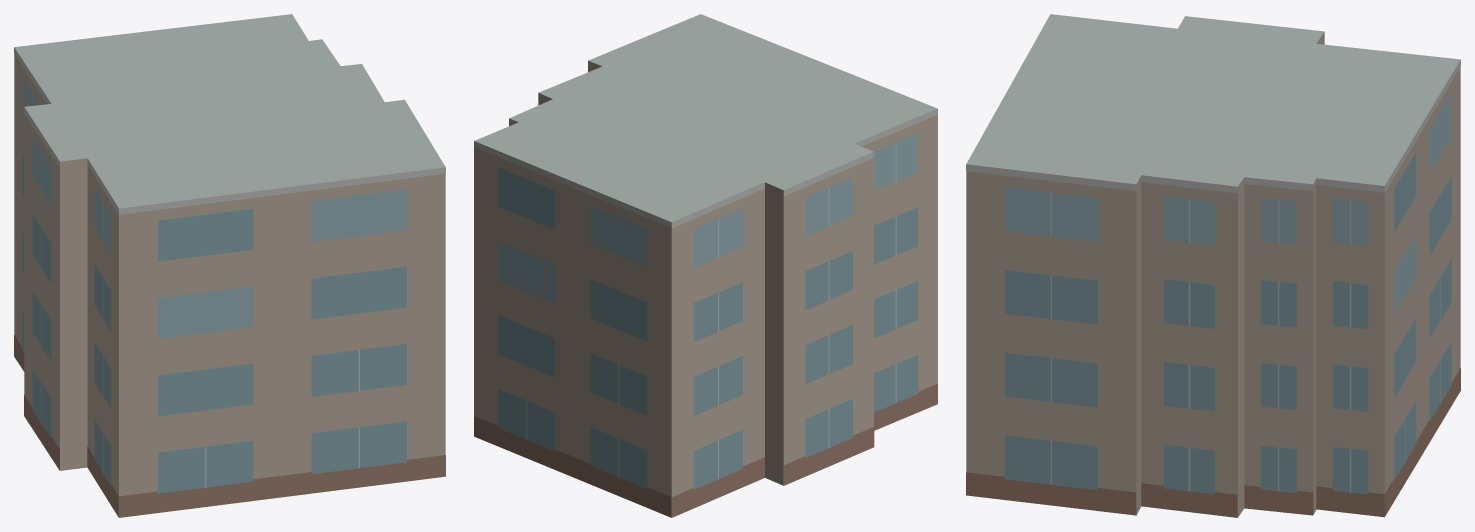
File: survey-upis-32503663.glb
3 renders of one model, left to right at view 1: azimuth 30°, elevation 25°; view 2: azimuth 150°, elevation 25°; view 3: azimuth 270°, elevation 25°, orthographic. The views are drawn at different scales.
Visible parts, largest first — view 1: survey-upis-32503663.tmp; view 2: survey-upis-32503663.tmp; view 3: survey-upis-32503663.tmp.
Boxes of the visible parts, x1=… form: survey-upis-32503663.tmp: x1=14, y1=14, x2=445, y2=517; survey-upis-32503663.tmp: x1=474, y1=14, x2=937, y2=517; survey-upis-32503663.tmp: x1=966, y1=14, x2=1460, y2=517.
Bounding box in the file's own units: 13.21 × 11.8 × 15.98.
